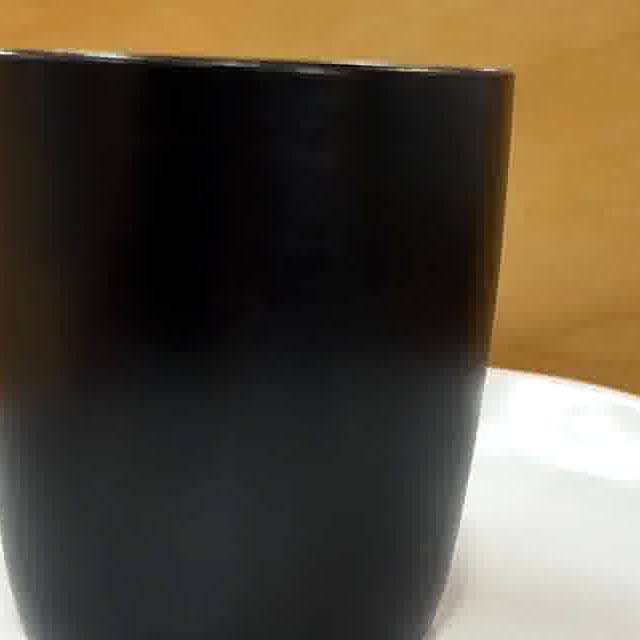cup: (0, 55, 509, 640)
